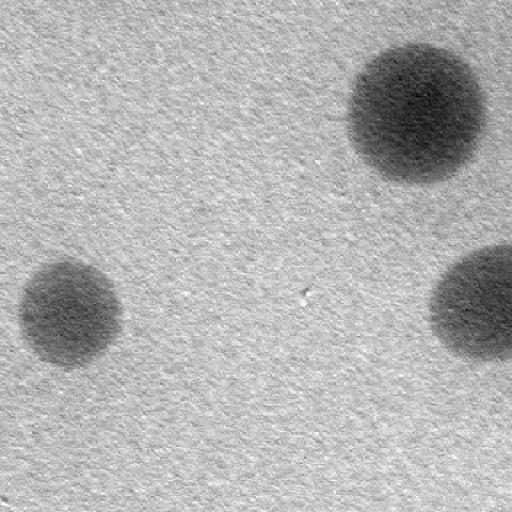Nanoparticles: (345, 41, 486, 189), (16, 254, 122, 374), (429, 238, 512, 367)
